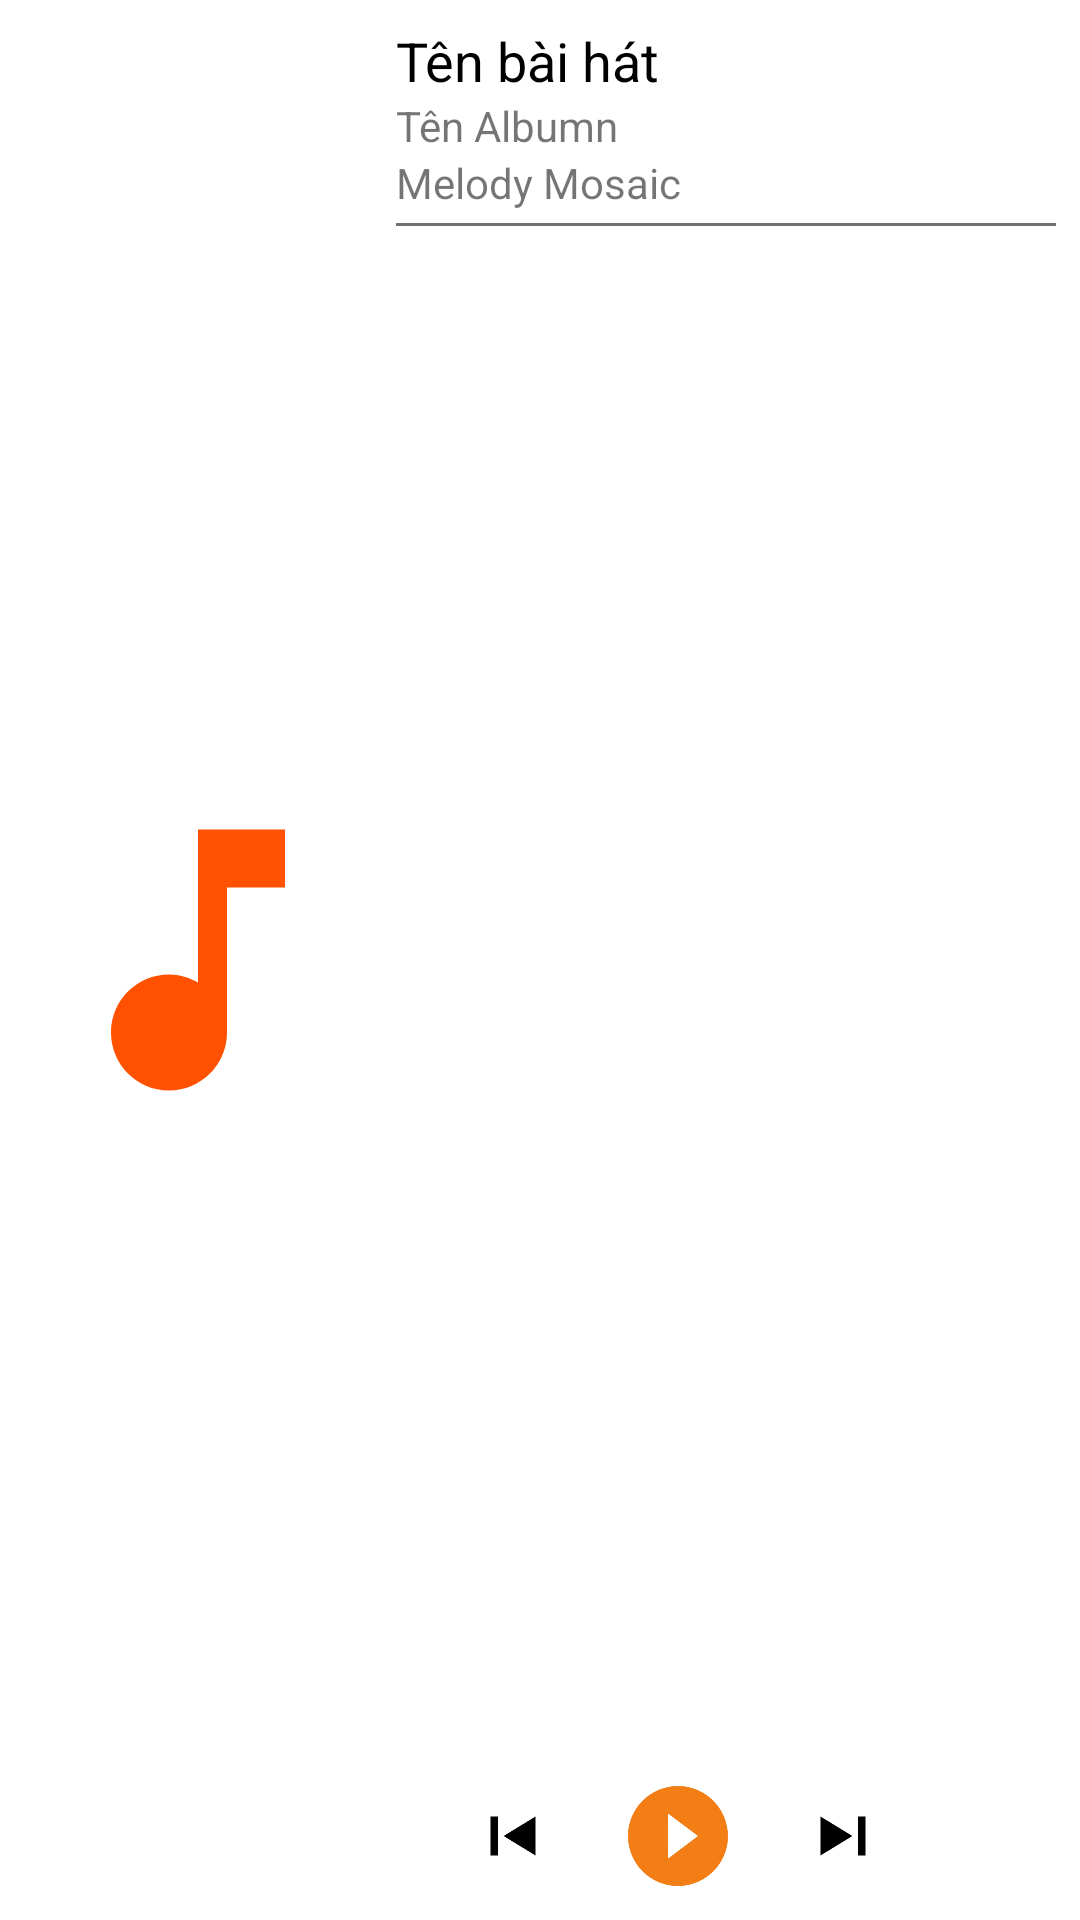

Icons on this 1080x1920 Android screen, each with the point to tap as (x=x, y=y):
musicnode: (x=198, y=960)
next: (x=843, y=1836)
play notification: (x=678, y=1836)
previous: (x=513, y=1836)
